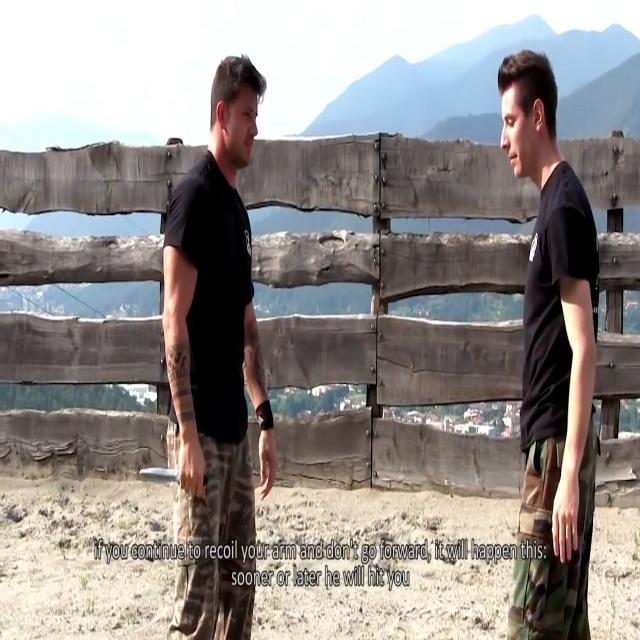knife: (139, 464, 185, 492)
